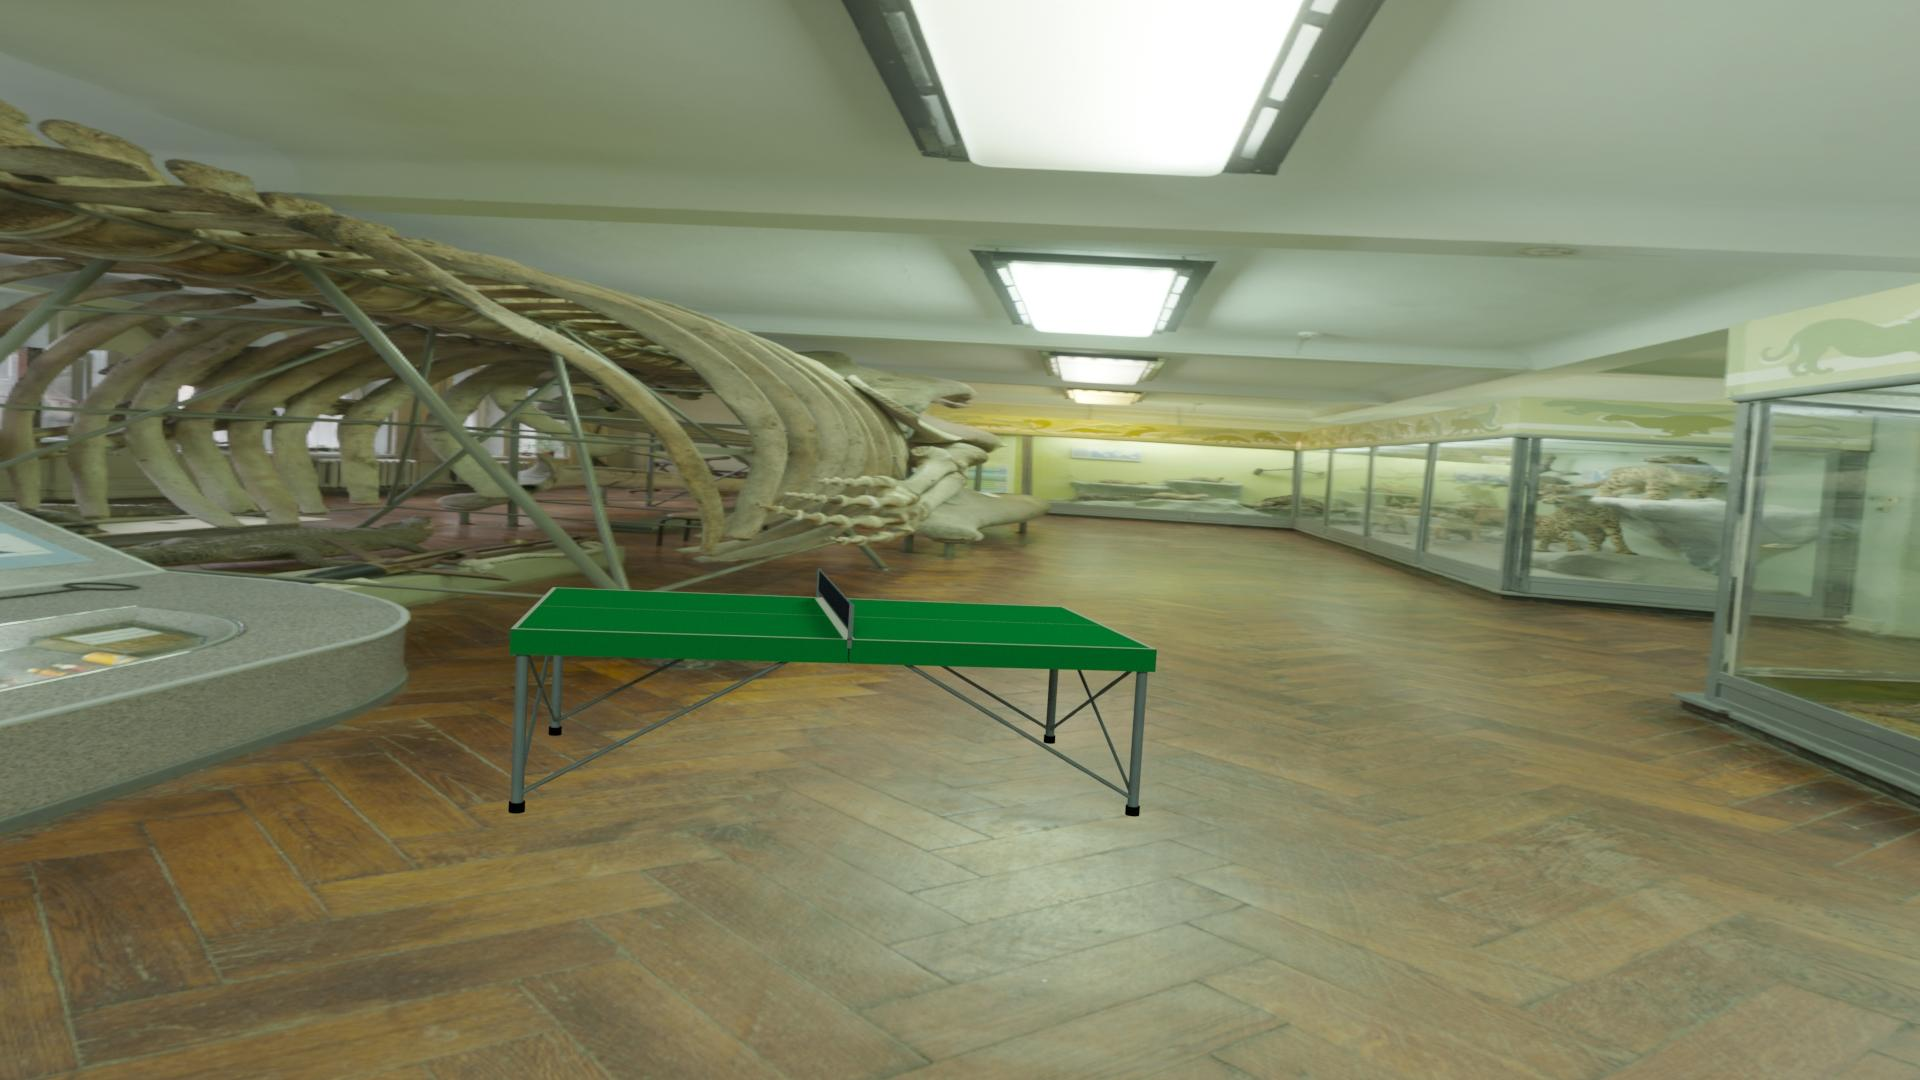table: (517, 588, 1151, 649)
